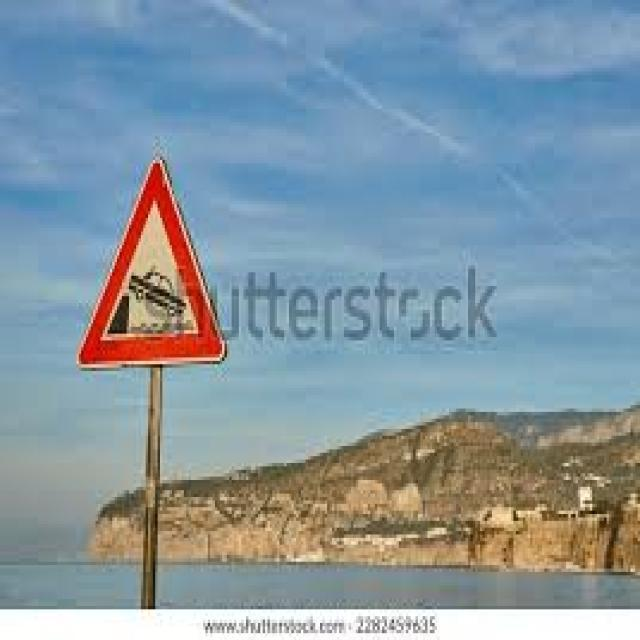quay side or river bank: (75, 152, 232, 376)
